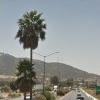Tree: (12, 11, 43, 100)
